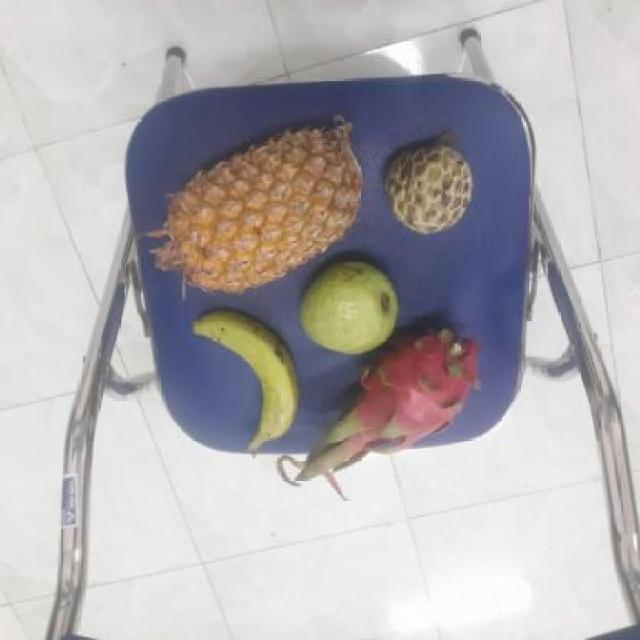banana: (189, 308, 300, 448)
dragon fruit: (339, 330, 473, 452)
guava: (296, 260, 401, 357)
pineapple: (155, 121, 360, 295)
sugar apple: (379, 140, 473, 232)
